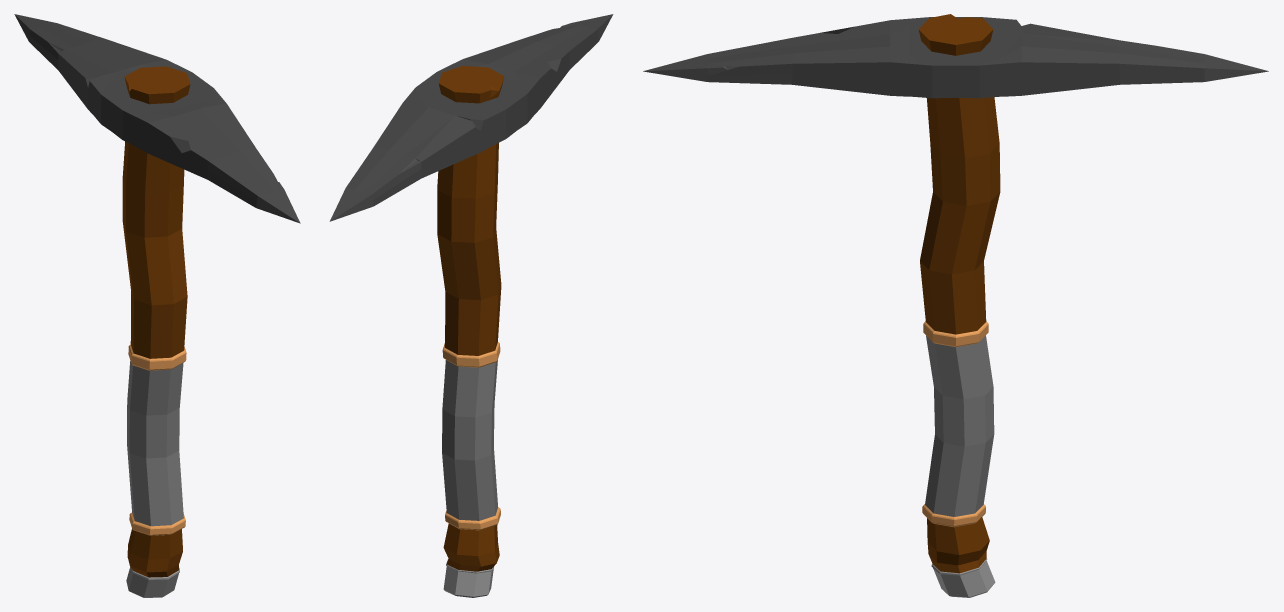
Rendered from Stonepick.fbx.
3 views of the same model, side by side, from view 1: azimuth 30°, elevation 25°; view 2: azimuth 150°, elevation 25°; view 3: azimuth 270°, elevation 25° (orthographic). The views are drawn at different scales.
Parts seen in each view (by area): view 1: Circle; view 2: Circle; view 3: Circle.
Boxes of the visible parts, box(x1,y1,x2,y2) form: Circle: box(14, 14, 300, 597); Circle: box(329, 14, 613, 597); Circle: box(643, 14, 1268, 597).
Bounding box in the file's own units: 34.93 × 188 × 190.
